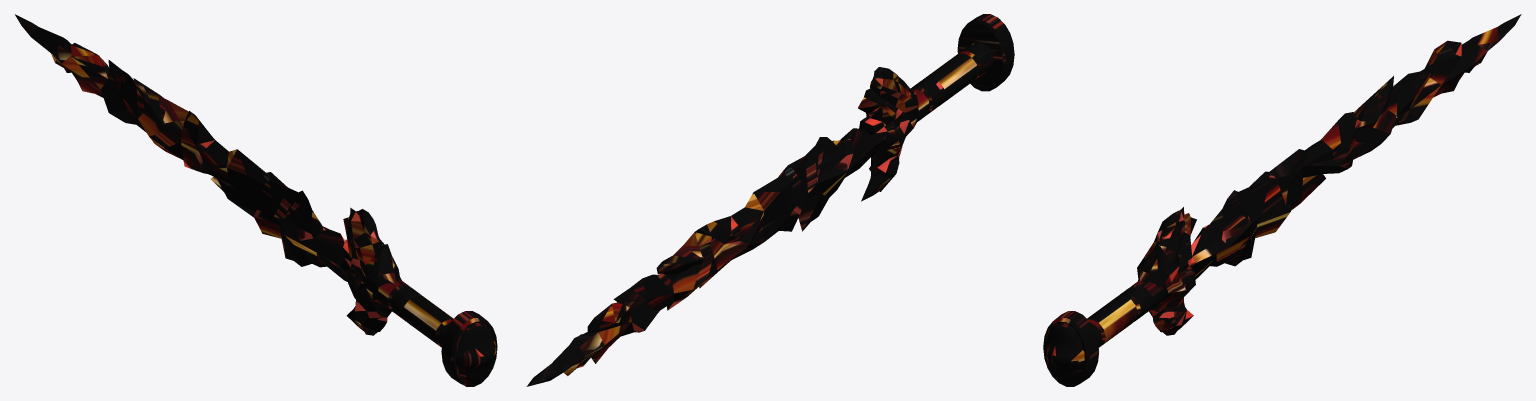
The picture shows the model from 3 angles, left to right: view 1: azimuth 30°, elevation 25°; view 2: azimuth 150°, elevation 25°; view 3: azimuth 330°, elevation 25°; orthographic projection. The views are drawn at different scales.
Visible parts, largest first — view 1: mesh_0; view 2: mesh_0; view 3: mesh_0.
Boxes of the visible parts, bbox=[...] form: mesh_0: bbox=[15, 14, 497, 386]; mesh_0: bbox=[526, 14, 1014, 386]; mesh_0: bbox=[1043, 14, 1521, 386].
Bounding box in the file's own units: 2.75 × 6.73 × 46.84.
Materials: 1 (1 with a texture image).
